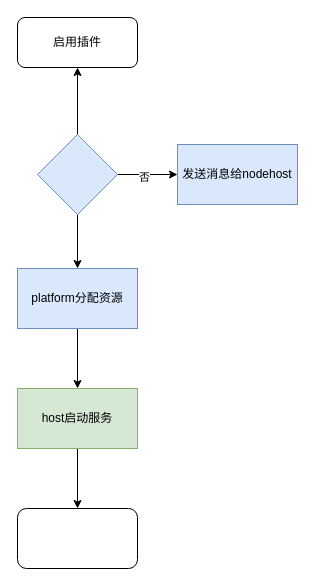
This 315x586 diagram has some shape labels left out. Here are the shapes that lost their labels. From the top down, the centre of each, then its label:
At point 77,174: "应用插件".
At point 77,538: "启用成功".
